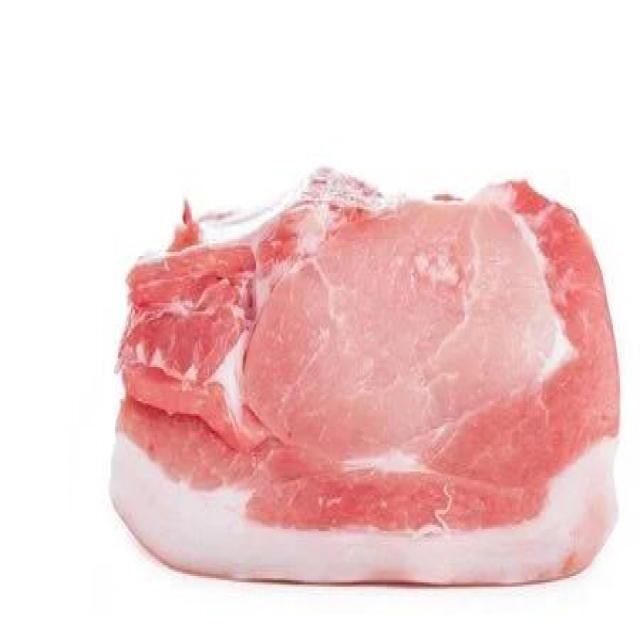Pork: (110, 177, 622, 591)
